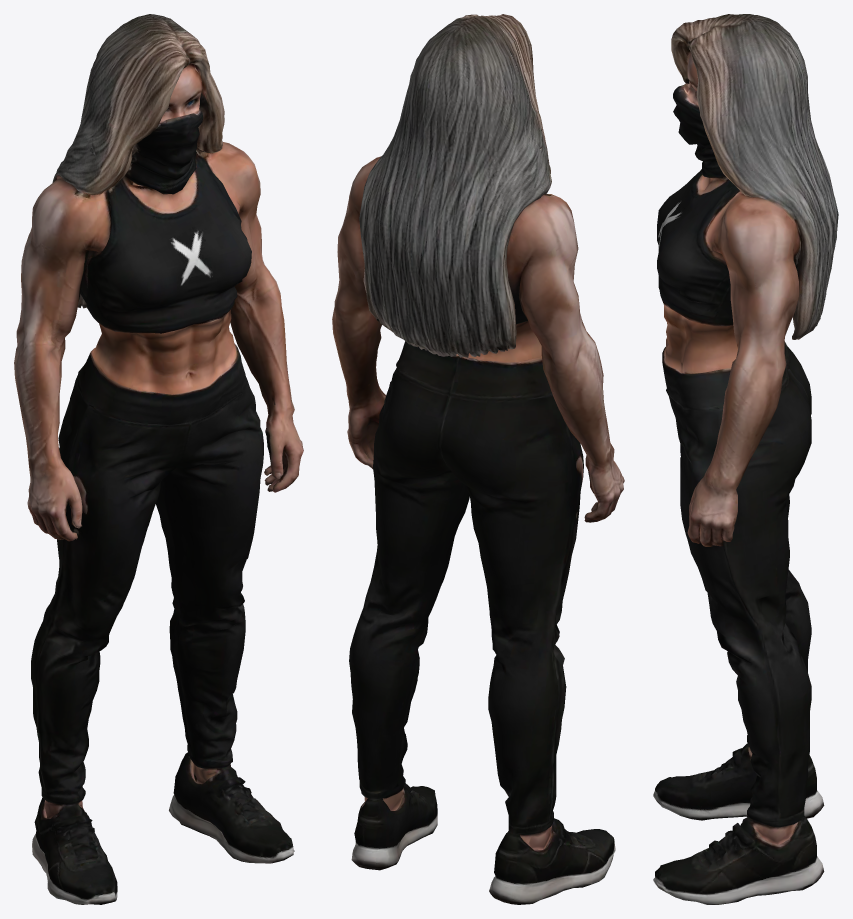
Rendered from SOFIA-opt.glb.
3 renders of one model, left to right at view 1: azimuth 30°, elevation 25°; view 2: azimuth 150°, elevation 25°; view 3: azimuth 270°, elevation 25°, orthographic.
Visible parts, largest first — view 1: tripo_node_1333a2cd-3aa5-4e2a-ba79-88f76b3b272b; view 2: tripo_node_1333a2cd-3aa5-4e2a-ba79-88f76b3b272b; view 3: tripo_node_1333a2cd-3aa5-4e2a-ba79-88f76b3b272b.
Part boxes in pixels (x1,y1,x2,y2): tripo_node_1333a2cd-3aa5-4e2a-ba79-88f76b3b272b: (14,14,303,904); tripo_node_1333a2cd-3aa5-4e2a-ba79-88f76b3b272b: (332,14,624,904); tripo_node_1333a2cd-3aa5-4e2a-ba79-88f76b3b272b: (653,14,838,904).
Size of the model in its own units: 0.3275 by 0.9786 by 0.1972.
1 material, 1 textured.
